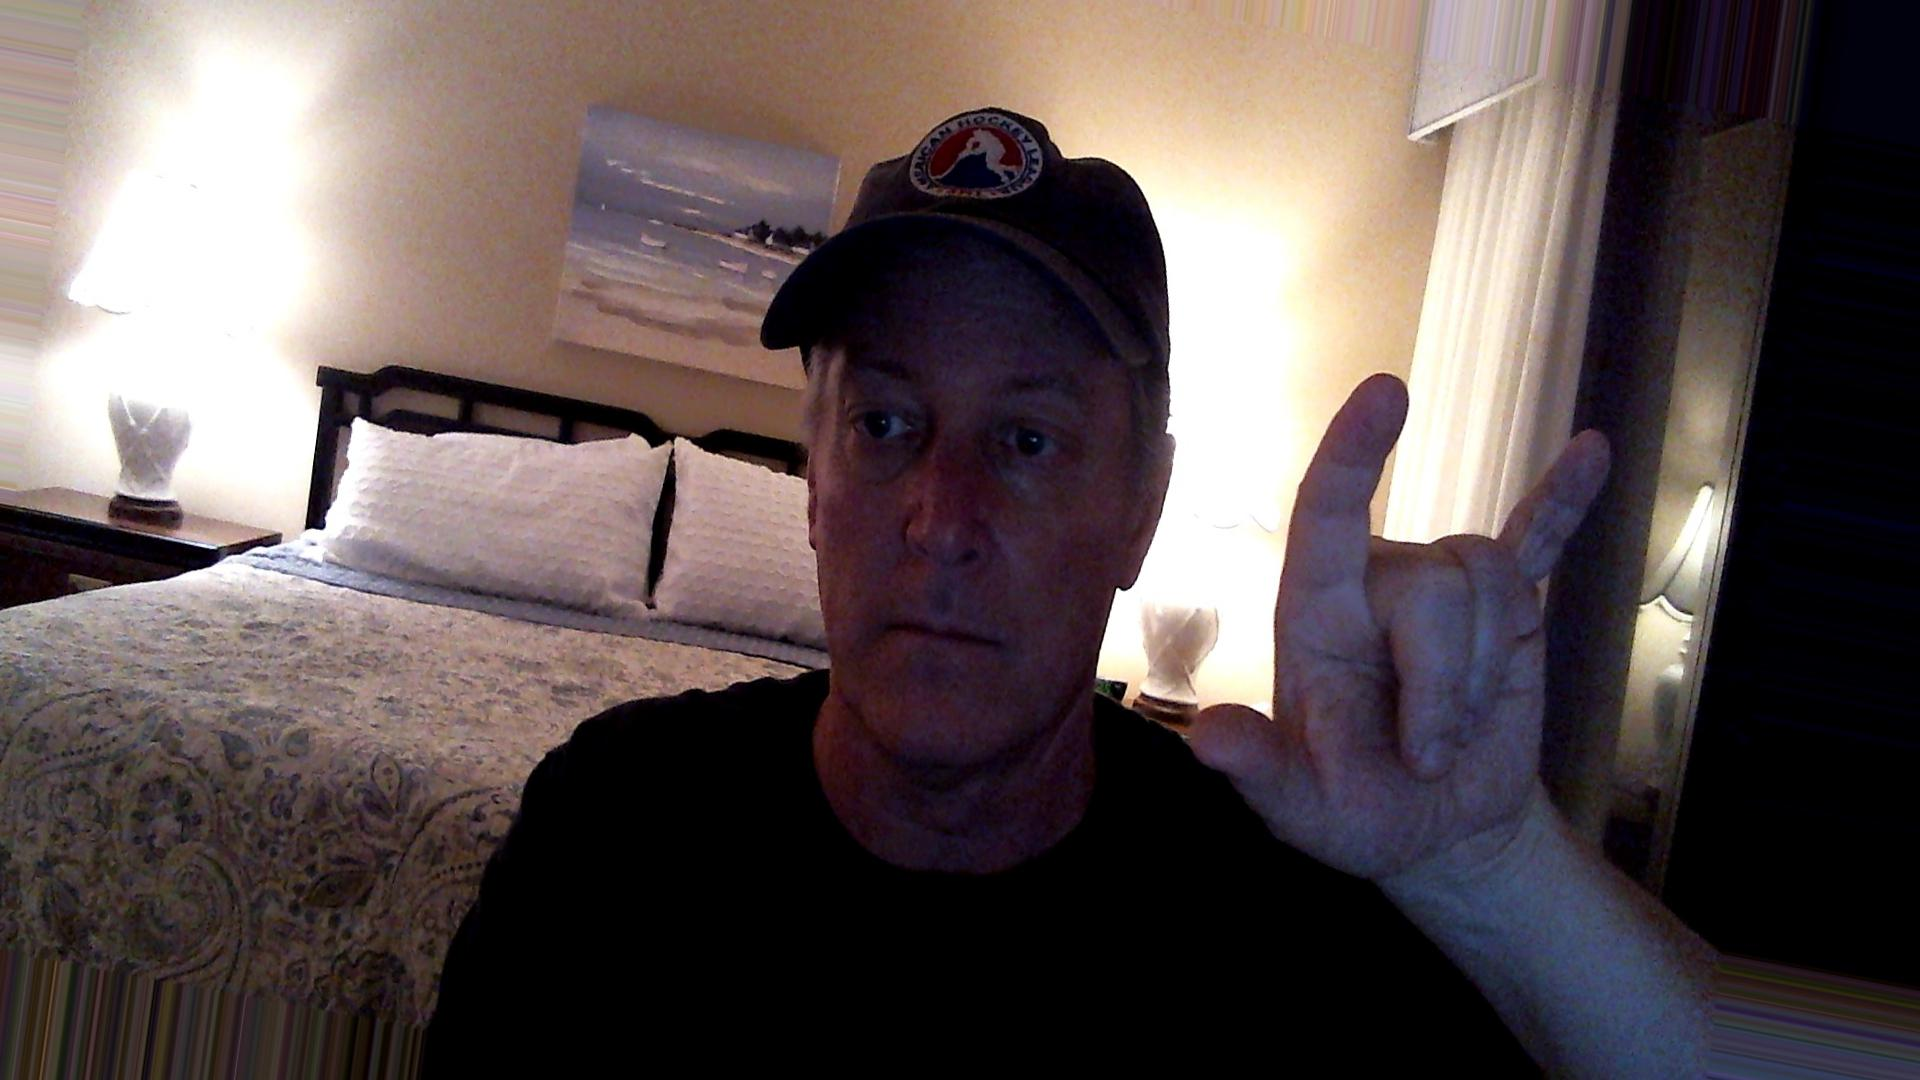I Love You: (1182, 348, 1636, 878)
